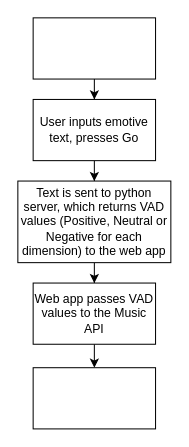
This 189x447 diagram has some shape labels left out. The shapes that lost their labels are listed below. From the top down, each one's box as (x1, y1, x2, y2) in pixels, then its label:
(32, 17, 156, 79): User grants the application authentication to Spotify account
(32, 367, 156, 429): Music API returns a song, and a calculated Ekmans emotion
